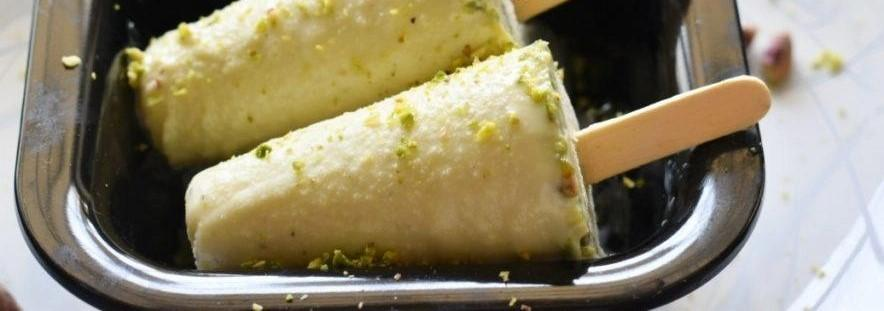Kulfi: (186, 38, 612, 269), (135, 0, 516, 170)
